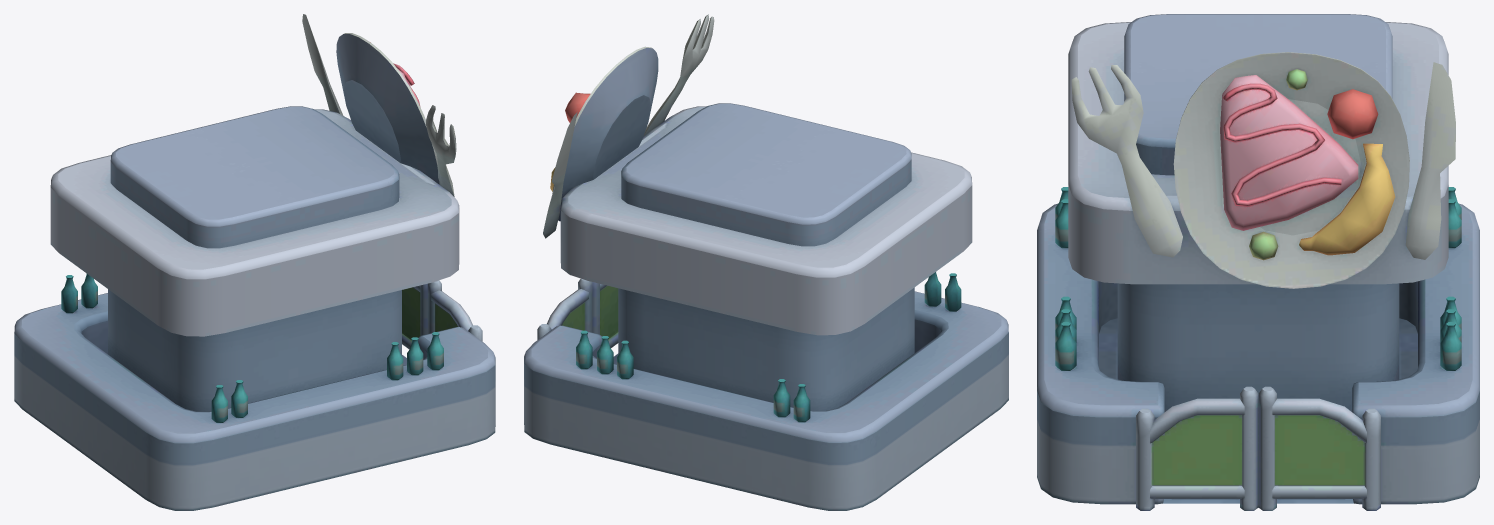
File: Props.fbx
3 renders of one model, left to right at view 1: azimuth 30°, elevation 25°; view 2: azimuth 150°, elevation 25°; view 3: azimuth 270°, elevation 25°, orthographic. The views are drawn at different scales.
Parts seen in each view (by area): view 1: canting; view 2: canting; view 3: canting.
Part boxes in pixels (x1,y1,x2,y2): canting: (14, 14, 495, 510); canting: (524, 14, 1008, 510); canting: (1037, 14, 1479, 510).
Bounding box in the file's own units: 8.26 × 7.4 × 7.
1 material, 1 textured.
